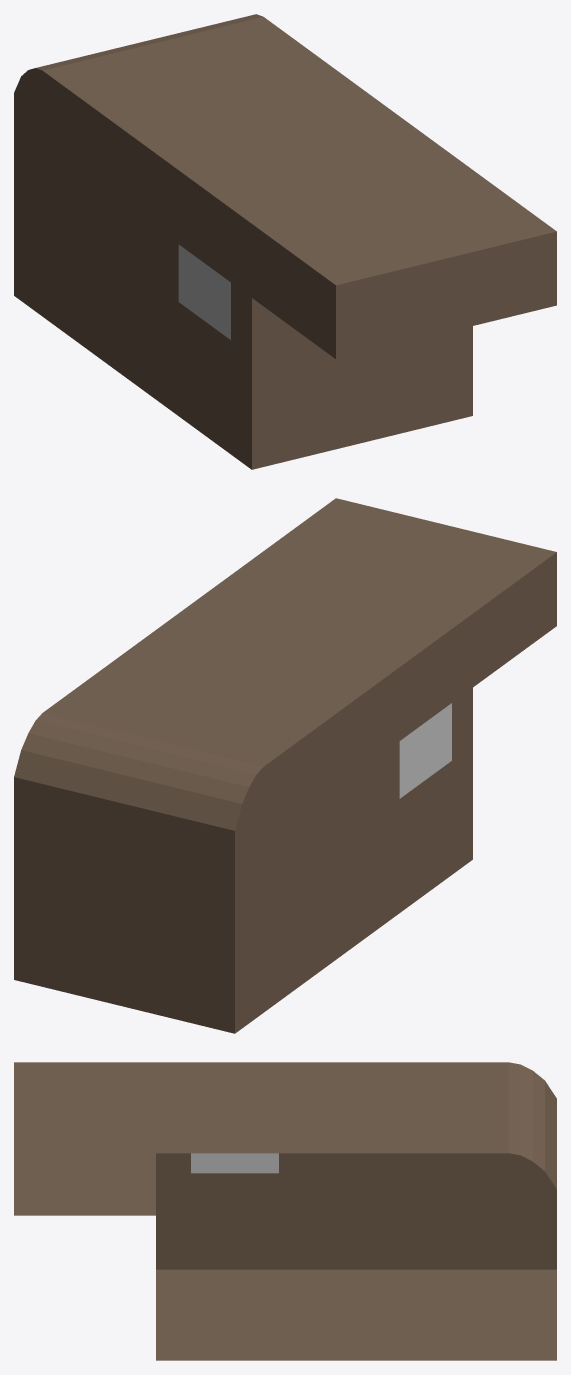
The model's file is VanCabin.fbx.
The picture shows the model from 3 angles, top to bottom: view 1: azimuth 30°, elevation 25°; view 2: azimuth 150°, elevation 25°; view 3: azimuth 270°, elevation 25°; orthographic projection. The views are drawn at different scales.
Visible parts, largest first — view 1: Cube.002; view 2: Cube.002; view 3: Cube.002.
Part boxes in pixels (x1,y1,x2,y2): Cube.002: [14, 14, 556, 469]; Cube.002: [14, 498, 556, 1033]; Cube.002: [14, 1062, 556, 1360].
Bounding box in the file's own units: 714 × 301 × 283.
